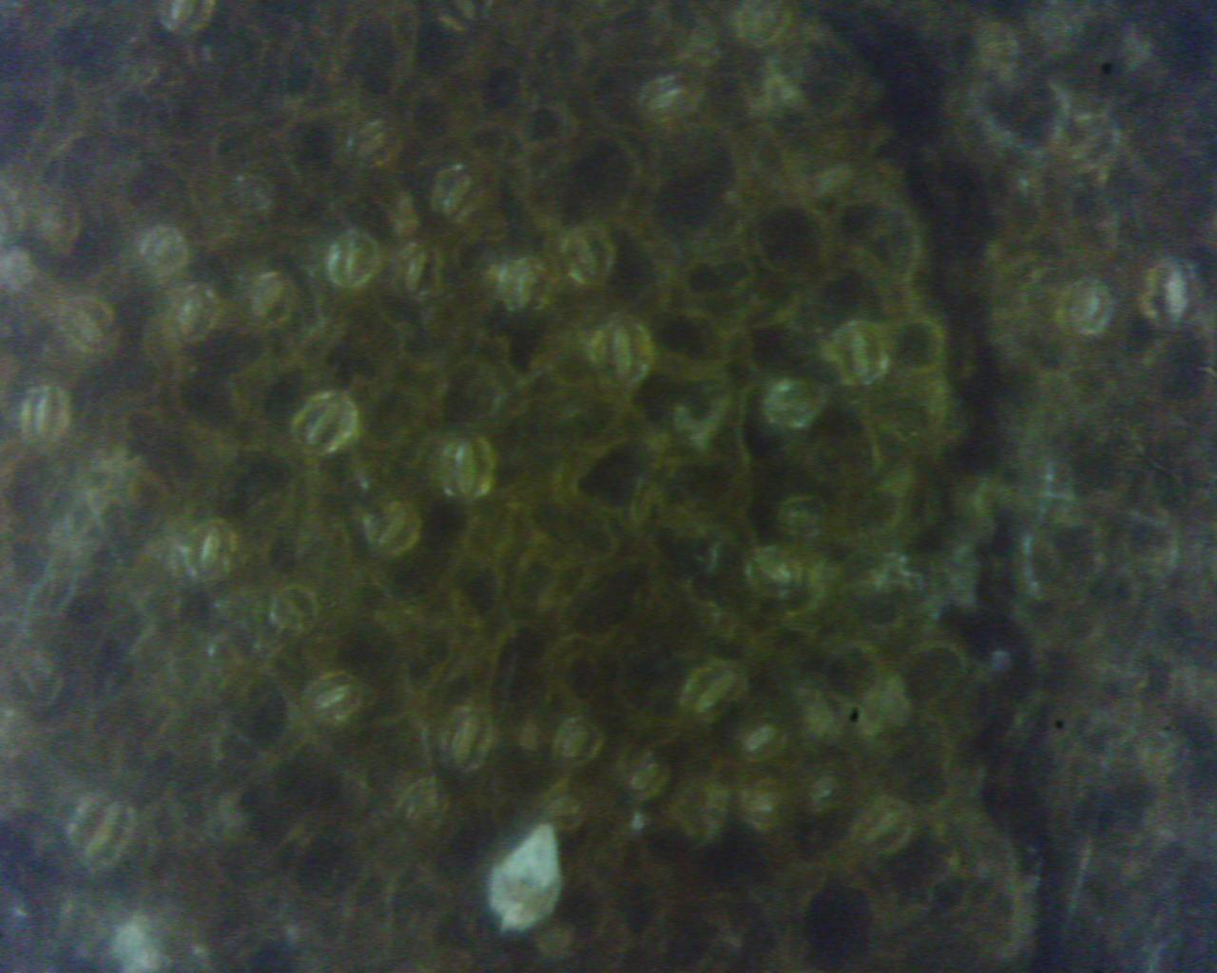stomata: (595, 320, 655, 387), (75, 792, 127, 863), (443, 434, 493, 505), (1148, 263, 1199, 325), (299, 397, 350, 457), (185, 521, 234, 582), (767, 378, 824, 430), (442, 709, 489, 769), (23, 391, 69, 450), (838, 327, 886, 383), (329, 232, 377, 288), (501, 262, 551, 314), (171, 291, 220, 344), (1066, 283, 1113, 337), (692, 670, 744, 718), (569, 232, 614, 286), (398, 245, 441, 296), (437, 168, 479, 219), (856, 811, 911, 849), (372, 504, 417, 549), (301, 679, 355, 715), (68, 303, 111, 348), (252, 277, 293, 324), (747, 781, 787, 829), (642, 82, 691, 121), (545, 784, 586, 829), (781, 499, 822, 540), (556, 721, 596, 762), (352, 127, 394, 163), (756, 555, 799, 590), (625, 762, 665, 794), (150, 231, 183, 269), (742, 725, 782, 754)
